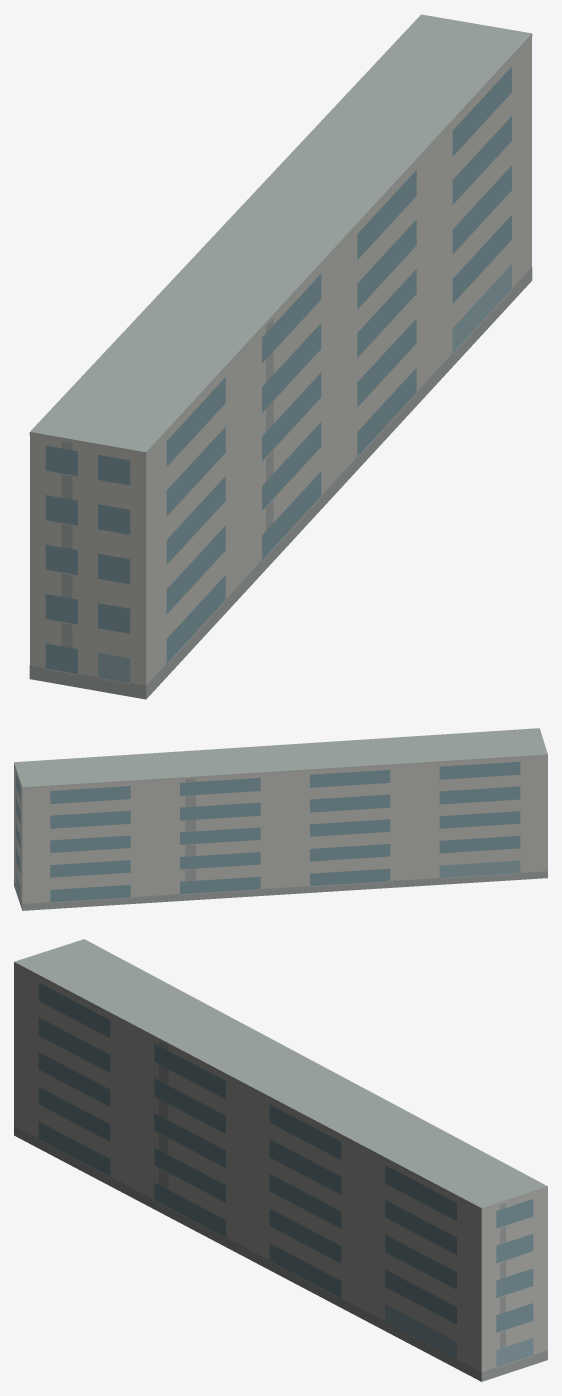
Rendered from survey-upis-32905243.glb.
3 views of the same model, one above another, from view 1: azimuth 30°, elevation 25°; view 2: azimuth 150°, elevation 25°; view 3: azimuth 270°, elevation 25° (orthographic). The views are drawn at different scales.
Parts seen in each view (by area): view 1: survey-upis-32905243.tmp; view 2: survey-upis-32905243.tmp; view 3: survey-upis-32905243.tmp.
Part boxes in pixels (bbox=[...]): survey-upis-32905243.tmp: bbox=[29, 14, 532, 699]; survey-upis-32905243.tmp: bbox=[14, 728, 547, 910]; survey-upis-32905243.tmp: bbox=[14, 939, 547, 1381].
Size of the model in its own units: 50.69 by 15.25 by 42.49.
